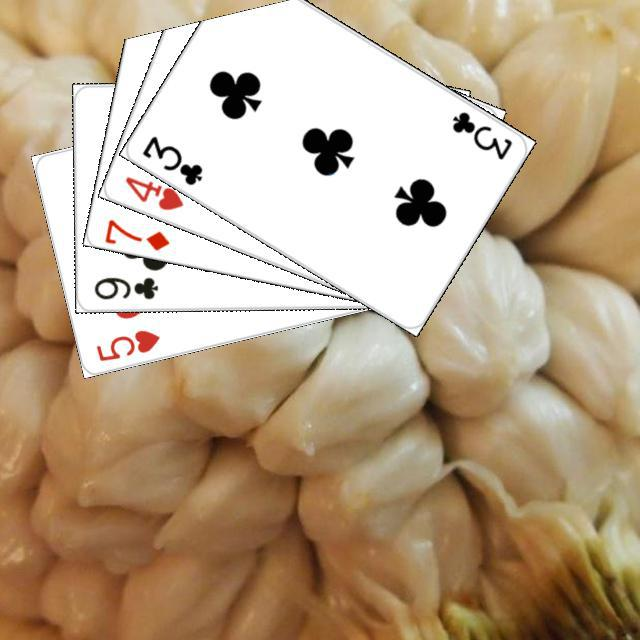3c: (137, 130, 205, 187), (446, 106, 514, 162)
4h: (120, 171, 185, 212)
5h: (91, 325, 162, 363)
7d: (100, 214, 171, 253)
9c: (89, 272, 159, 302)
